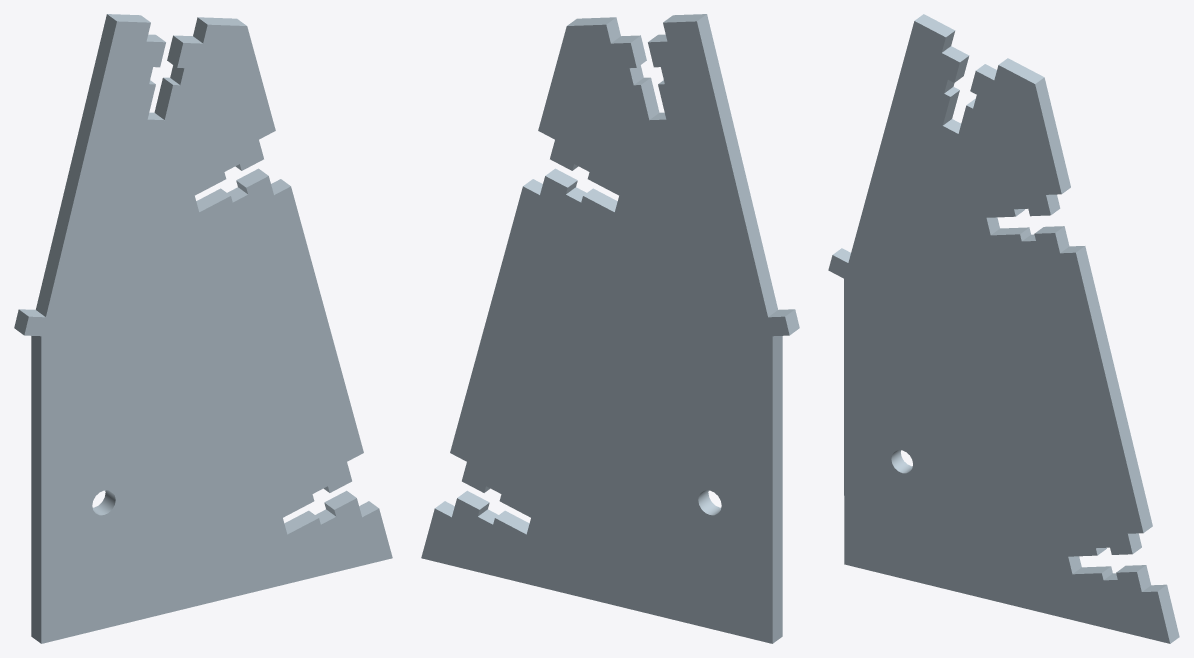
Rendered from prt0005.obj.
3 renders of one model, left to right at view 1: azimuth 30°, elevation 25°; view 2: azimuth 150°, elevation 25°; view 3: azimuth 330°, elevation 25°, orthographic. The views are drawn at different scales.
Parts seen in each view (by area): view 1: 1; view 2: 1; view 3: 1.
Part boxes in pixels (<box>): 1: <box>14,14,392,643</box>; 1: <box>421,14,799,643</box>; 1: <box>828,14,1179,643</box>.
Size of the model in its own units: 62.87 by 98.48 by 3.
